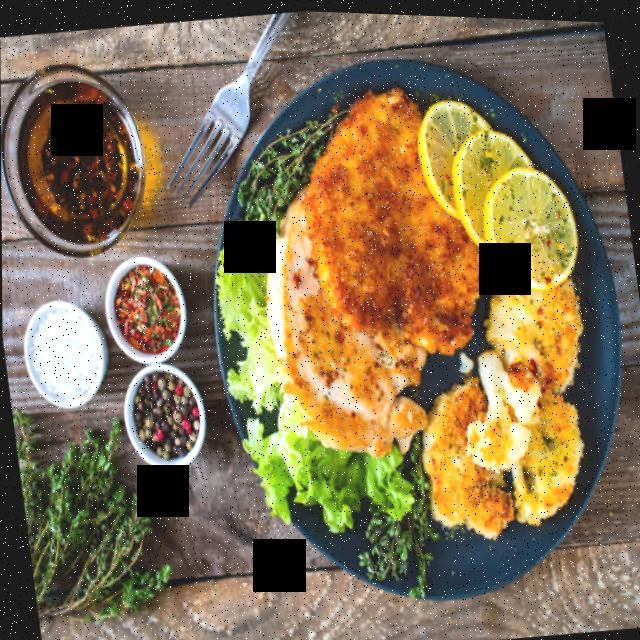Frango: (237, 67, 510, 471)
